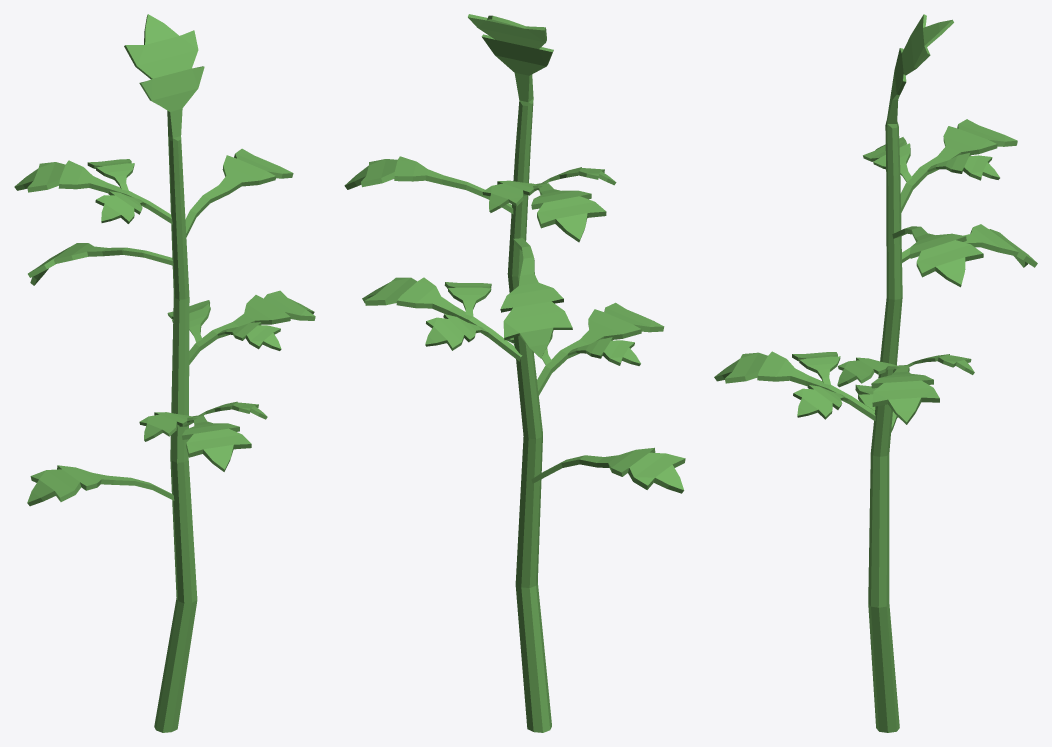
Rendered from Haricot_3-optimized.glb.
3 renders of one model, left to right at view 1: azimuth 30°, elevation 25°; view 2: azimuth 150°, elevation 25°; view 3: azimuth 270°, elevation 25°, orthographic. The views are drawn at different scales.
Parts seen in each view (by area): view 1: Tomato_3; view 2: Tomato_3; view 3: Tomato_3.
Part boxes in pixels (box(x1,y1,x2,y2)): Tomato_3: box(14, 14, 315, 732); Tomato_3: box(344, 14, 685, 732); Tomato_3: box(714, 14, 1037, 732).
Size of the model in its own units: 0.6409 by 1.43 by 0.5863.
